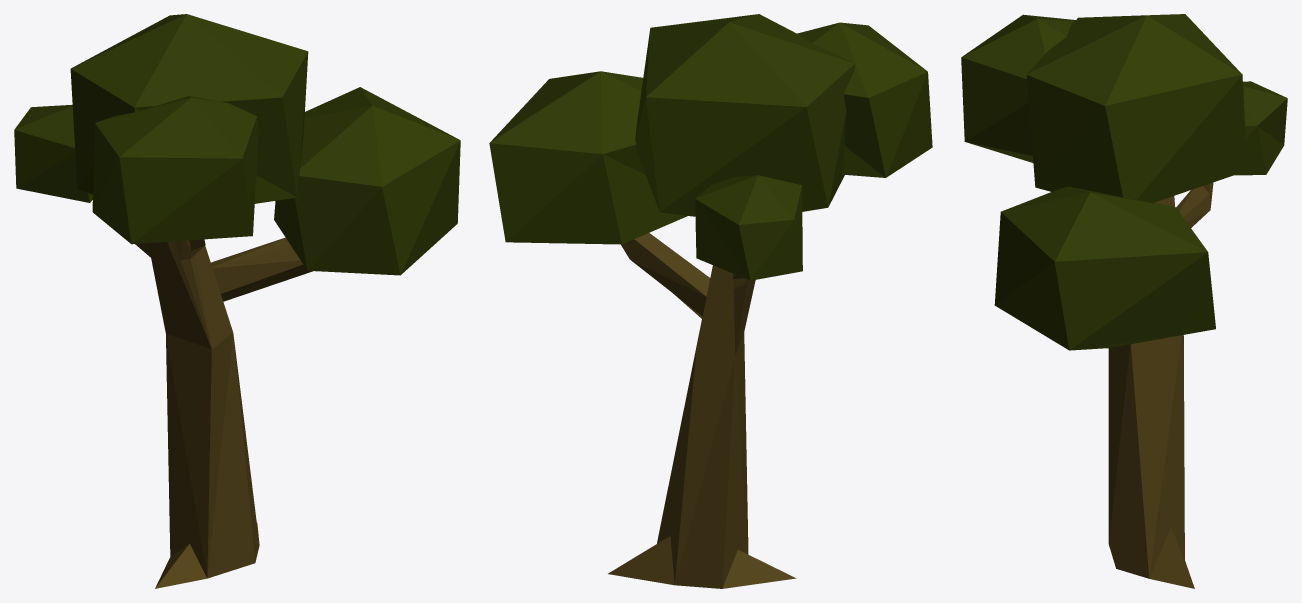
Rendered from tree_01.fbx.
3 views of the same model, side by side, from view 1: azimuth 30°, elevation 25°; view 2: azimuth 150°, elevation 25°; view 3: azimuth 270°, elevation 25° (orthographic). The views are drawn at different scales.
Parts seen in each view (by area): view 1: Group6, Group3, Group4, Group2, Group5; view 2: Group4, Group6, Group3, Group2, Group5; view 3: Group4, Group3, Group6, Group2, Group5.
Boxes of the visible parts, box(x1,y1,x2,y2) form: Group6: box(135, 237, 313, 588); Group3: box(274, 87, 460, 275); Group4: box(70, 14, 308, 203); Group2: box(92, 96, 258, 244); Group5: box(14, 104, 92, 202); Group4: box(635, 14, 854, 216); Group6: box(608, 233, 796, 588); Group3: box(489, 71, 687, 244); Group2: box(797, 22, 932, 177); Group5: box(695, 175, 802, 280); Group4: box(1026, 14, 1247, 202); Group3: box(994, 186, 1215, 350); Group6: box(1108, 182, 1213, 588); Group2: box(961, 14, 1075, 162); Group5: box(1235, 81, 1287, 175).
Bounding box in the file's own units: 5640 × 8181 × 4579.
